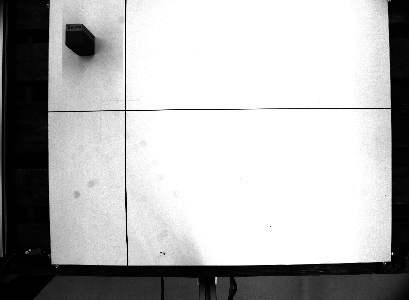b3: (62, 20, 98, 58)
